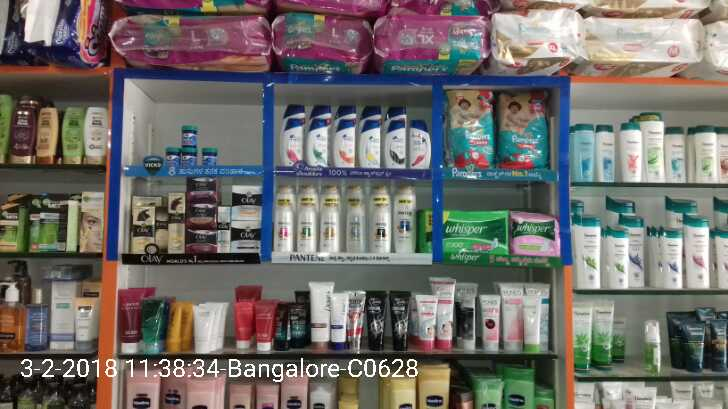beauty: (270, 186, 299, 252), (366, 187, 391, 255), (394, 184, 416, 256), (231, 184, 267, 222), (382, 119, 411, 166), (131, 198, 156, 252), (321, 189, 342, 253), (407, 119, 433, 170), (333, 118, 360, 167), (342, 184, 360, 252), (299, 184, 318, 247), (282, 119, 306, 165), (307, 119, 330, 166), (359, 120, 381, 168), (169, 191, 184, 258), (233, 222, 263, 254)
pharmacy: (417, 205, 507, 259), (495, 91, 550, 172), (445, 86, 495, 163), (510, 208, 561, 259), (180, 124, 198, 147), (198, 148, 217, 166)
